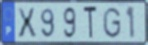1: (125, 5, 136, 40)
9: (39, 7, 57, 39), (62, 6, 78, 40)
G: (102, 7, 122, 40)
T: (83, 5, 99, 41)
X: (16, 7, 39, 39)
